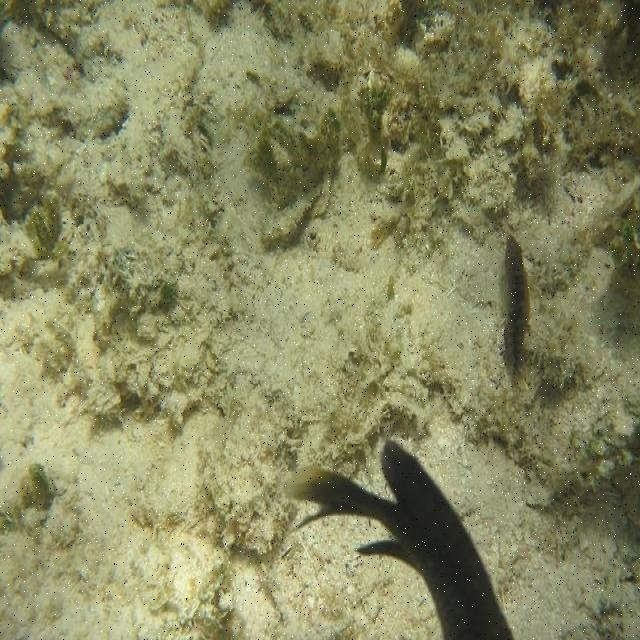fish: (282, 442, 516, 639), (499, 233, 535, 392)
